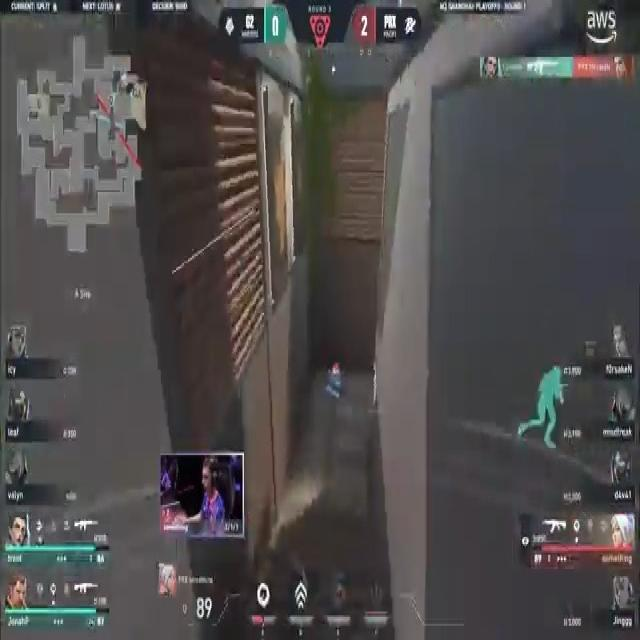ally behind wall: (518, 354, 564, 458)
